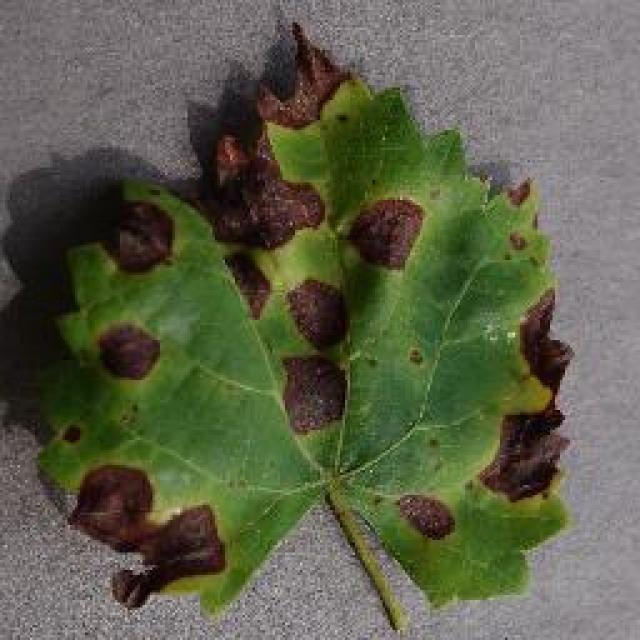Grape___Black_rot: (35, 27, 579, 632)
